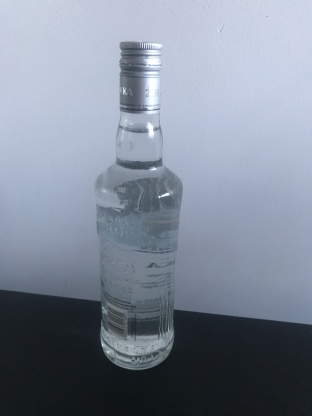nakretka: (117, 38, 164, 115)
